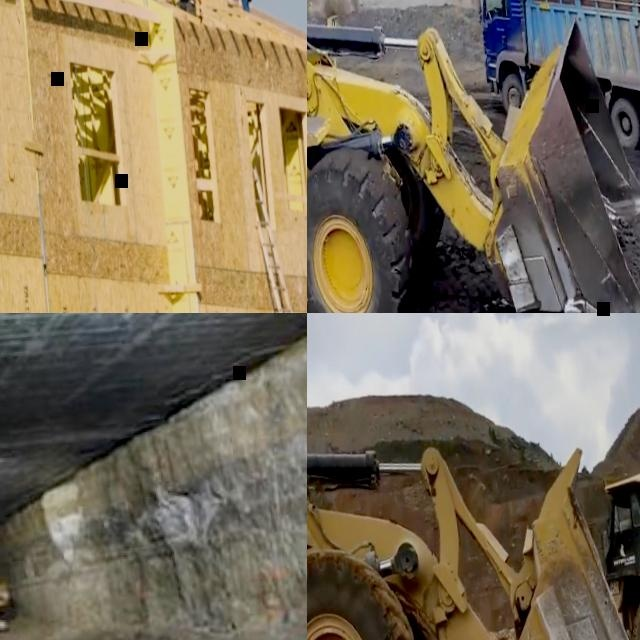Person: (166, 0, 203, 19)
machinery: (307, 313, 640, 640), (307, 0, 640, 313), (472, 0, 640, 180)
